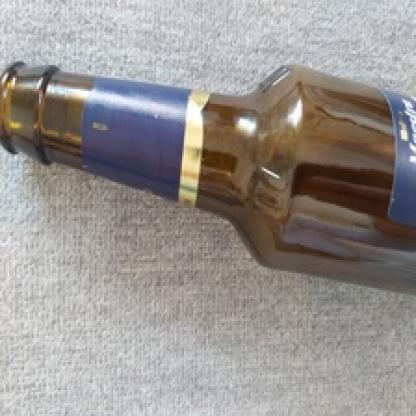Can: (0, 50, 416, 314)
